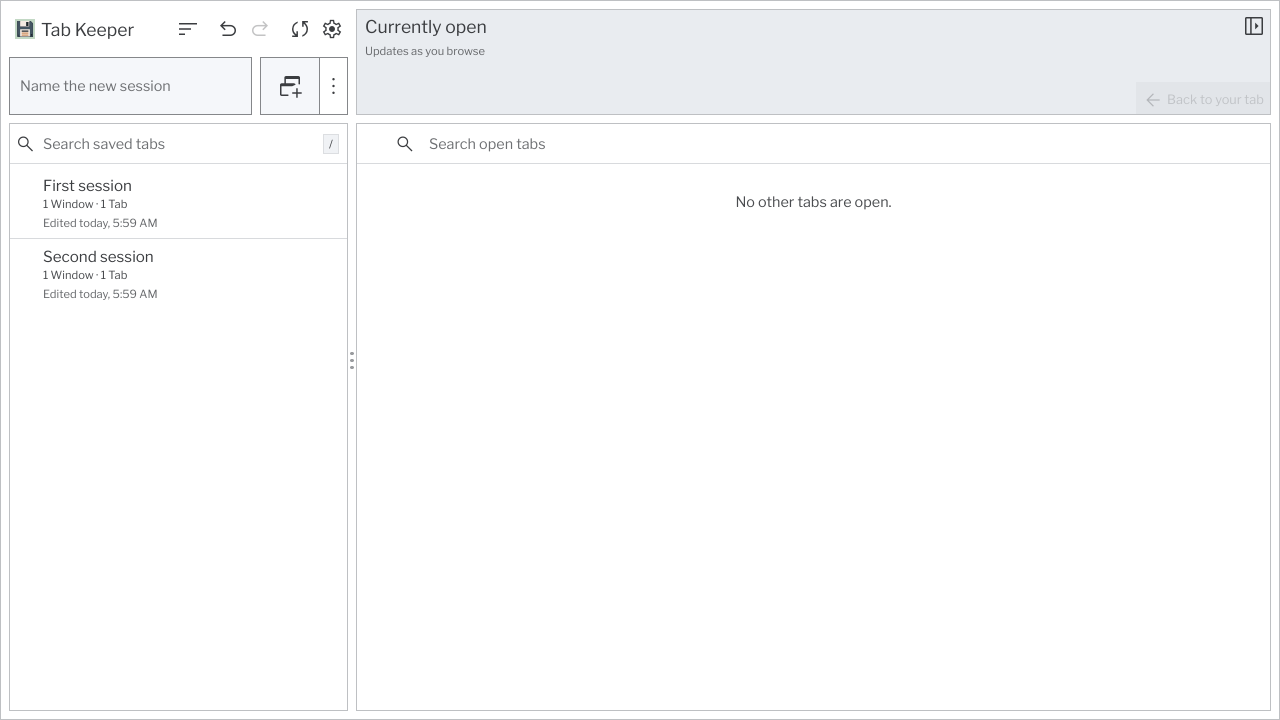
Scenario: the peek (O5) › clicking the already-selected session while folded also shows it
Click the button "First session" at (87, 186), box top-left (10, 168), bottom-right (347, 238)
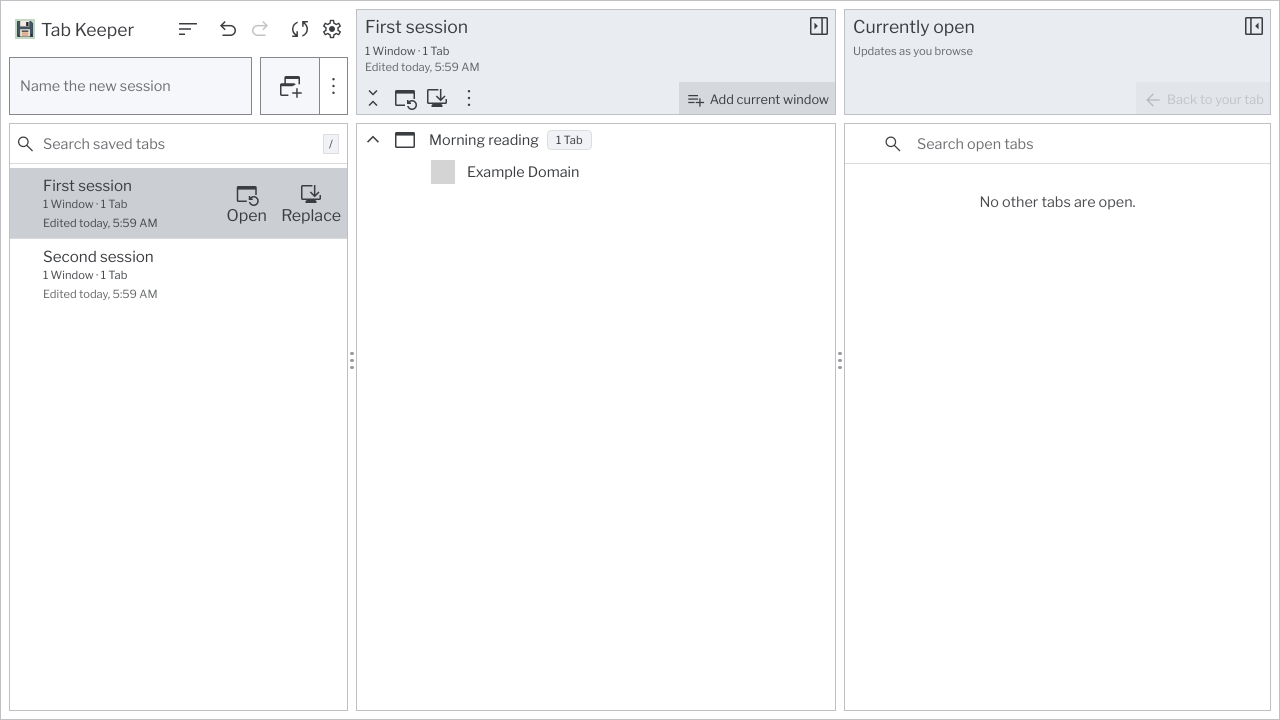
Check: the button named "Open session, keeping current windows" is shown, box top-left (393, 84), bottom-right (417, 112)
